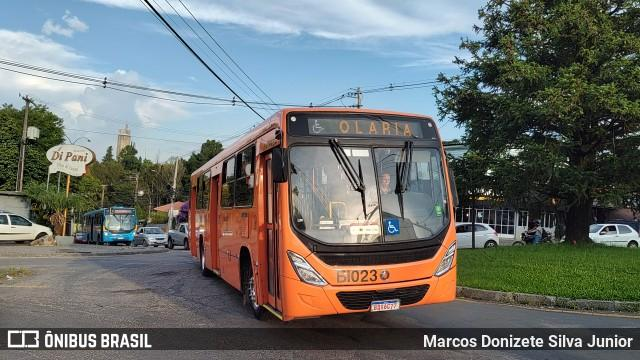OLARIA: (335, 118, 414, 140)
